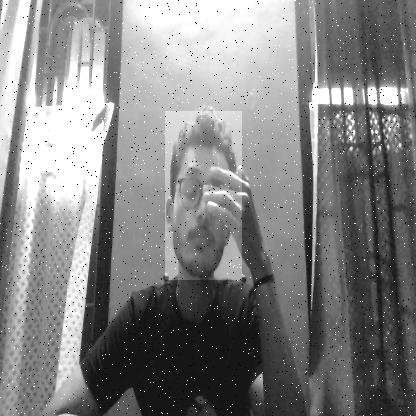Normal: (165, 111, 242, 280)
